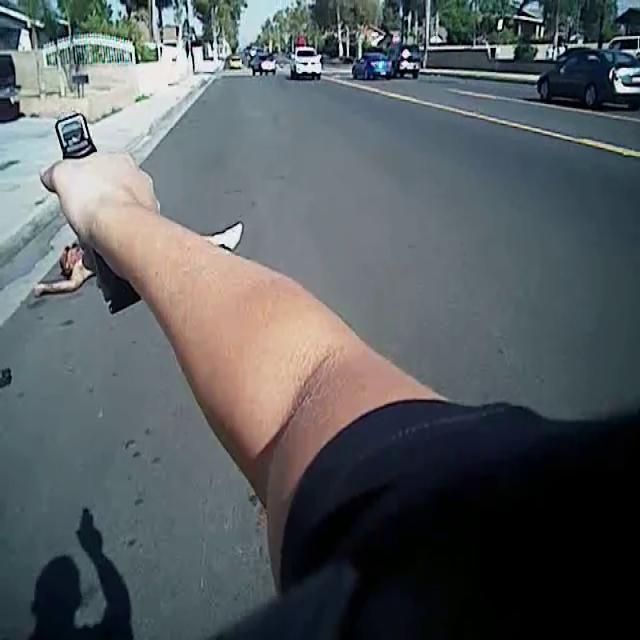gun: (33, 95, 159, 324)
